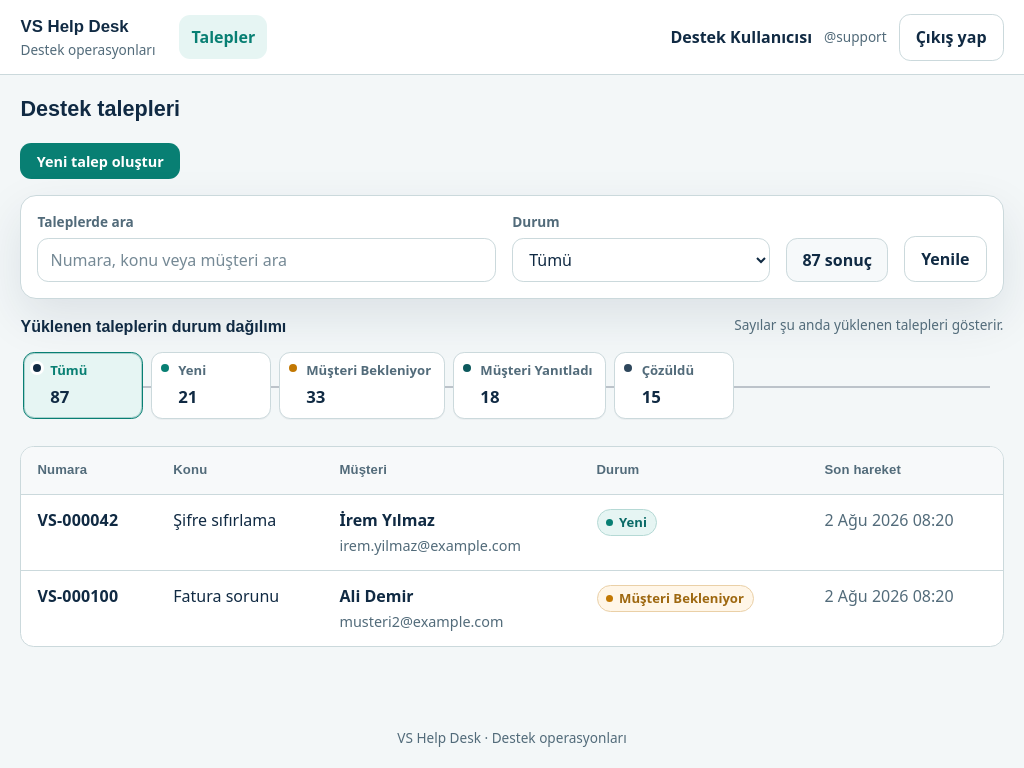
Scenario: TicketListPage › keeps controls mounted and search focused through server replacements
Expected: the table is shown, [22,447,1003,646]
Type "İ" into the search field labelled "Taleplerde ara" at point(267, 260), box [38,238,496,282]
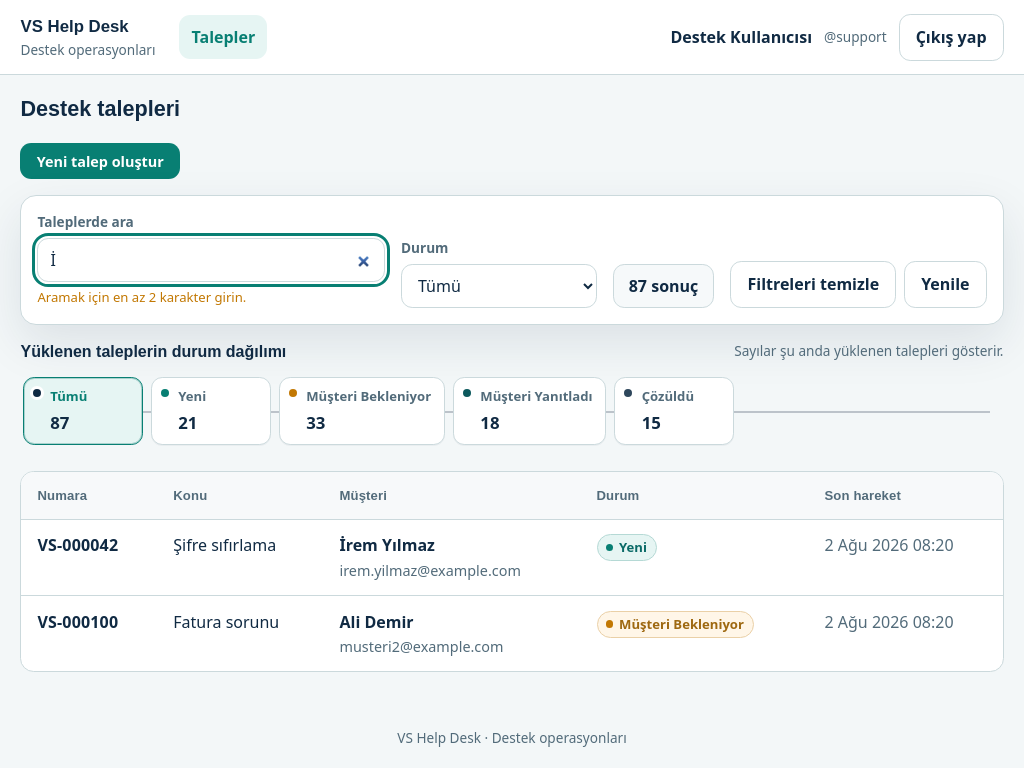
Expected: the text "Aramak için en az 2 karakter girin." is shown, [38,288,246,306]
Type "ş" into the search field labelled "Taleplerde ara" at point(211, 260), box [38,238,385,282]
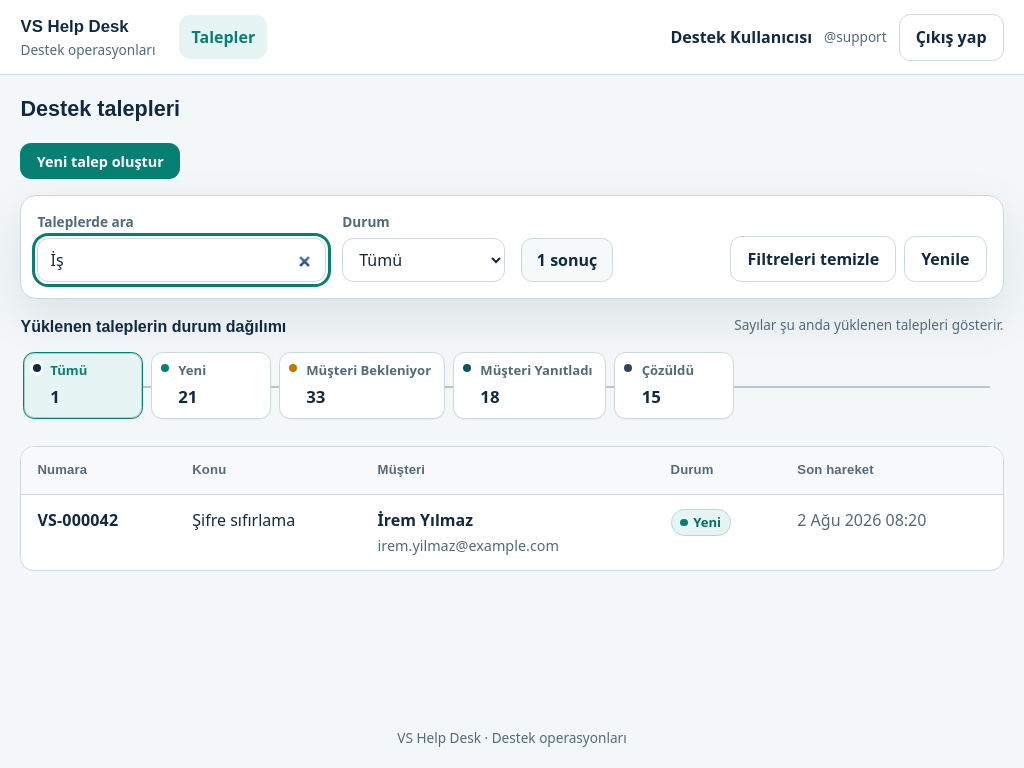
Expected: the link "VS-000042" is shown, [38,509,118,531]
Expected: the text "Aramak için en az 2 karakter girin." is gone
Select "Çözüldü" in the dropdown labelled "Durum" at point(423, 260), box [342,238,505,282]
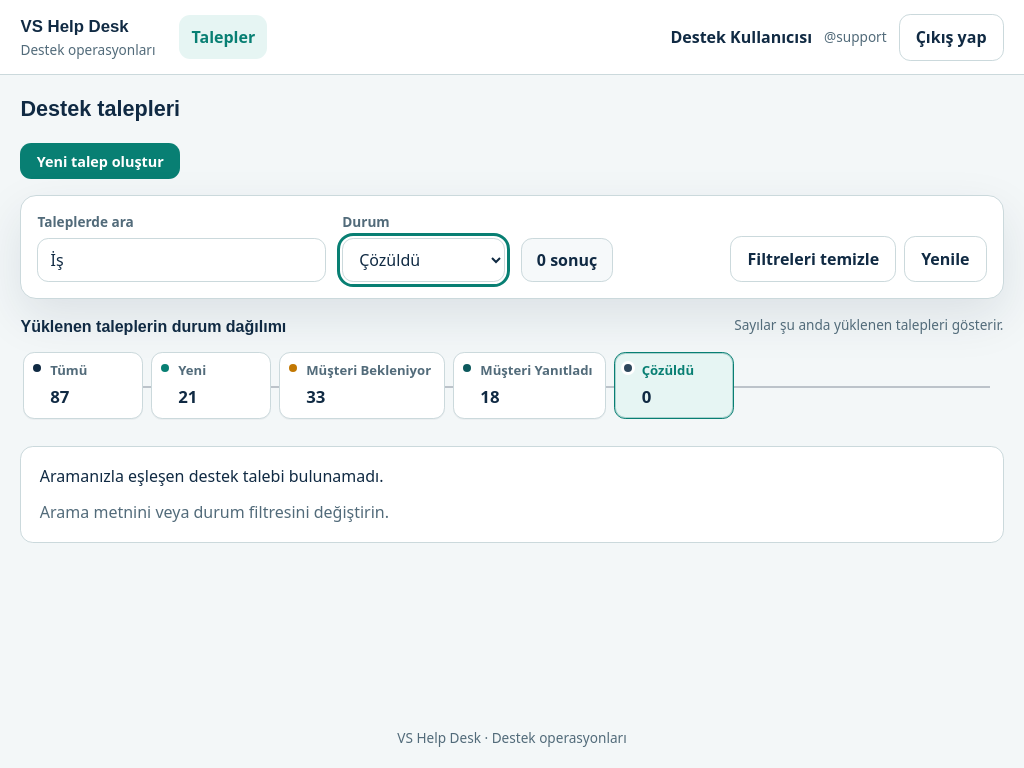
Expected: the search field labelled "Taleplerde ara" is shown, [38,238,326,282]
Expected: the text "Aramanızla eşleşen destek talebi bulunamadı." is shown, [40,464,384,488]
